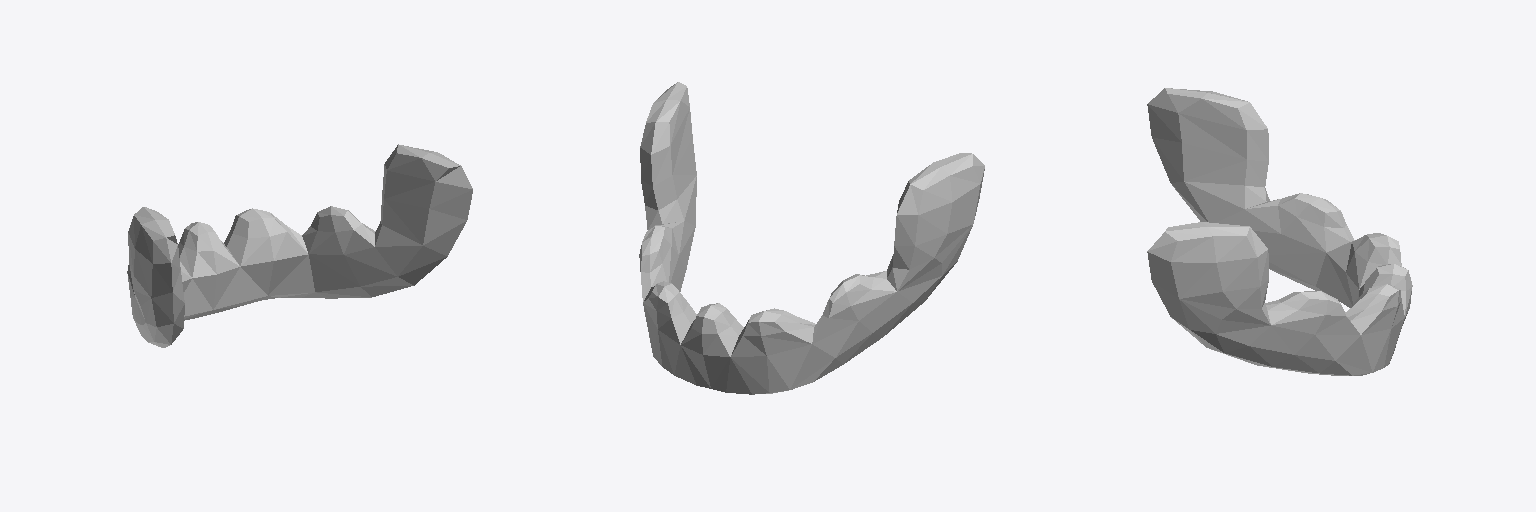
File: jaw.obj
3 views of the same model, side by side, from view 1: azimuth 30°, elevation 25°; view 2: azimuth 150°, elevation 25°; view 3: azimuth 270°, elevation 25° (orthographic).
Visible parts, largest first — view 1: jaw_Cube.7715; view 2: jaw_Cube.7715; view 3: jaw_Cube.7715.
Part boxes in pixels (x1,y1,x2,y2): jaw_Cube.7715: (127,144,472,347); jaw_Cube.7715: (639,82,984,394); jaw_Cube.7715: (1147,88,1412,375).
Size of the model in its own units: 0.5473 by 0.3191 by 0.3982.